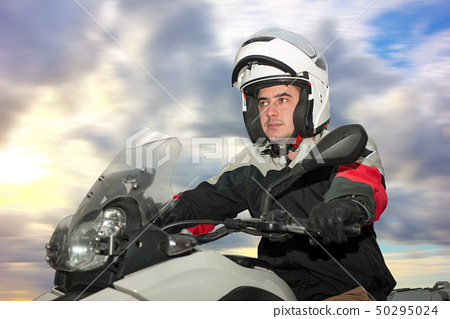helmet: (235, 37, 333, 131)
